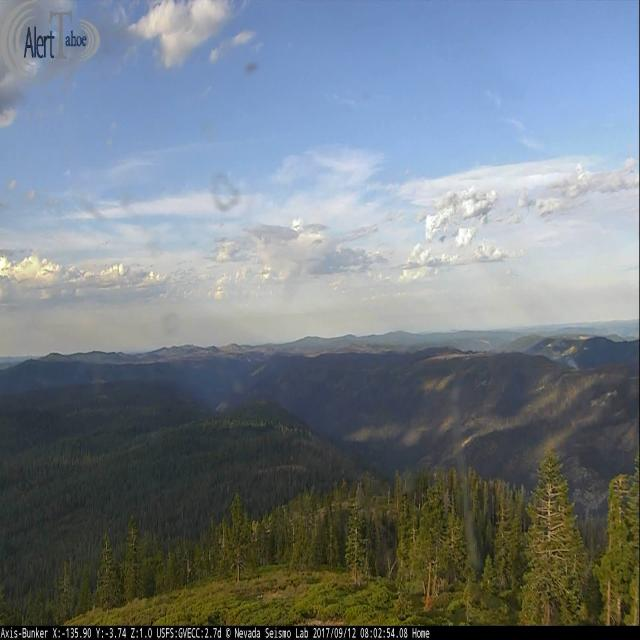smoke: (562, 353, 581, 369)
